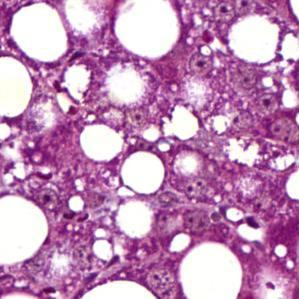steatosis: (8, 4, 70, 61), (120, 152, 166, 196), (77, 122, 123, 161)
